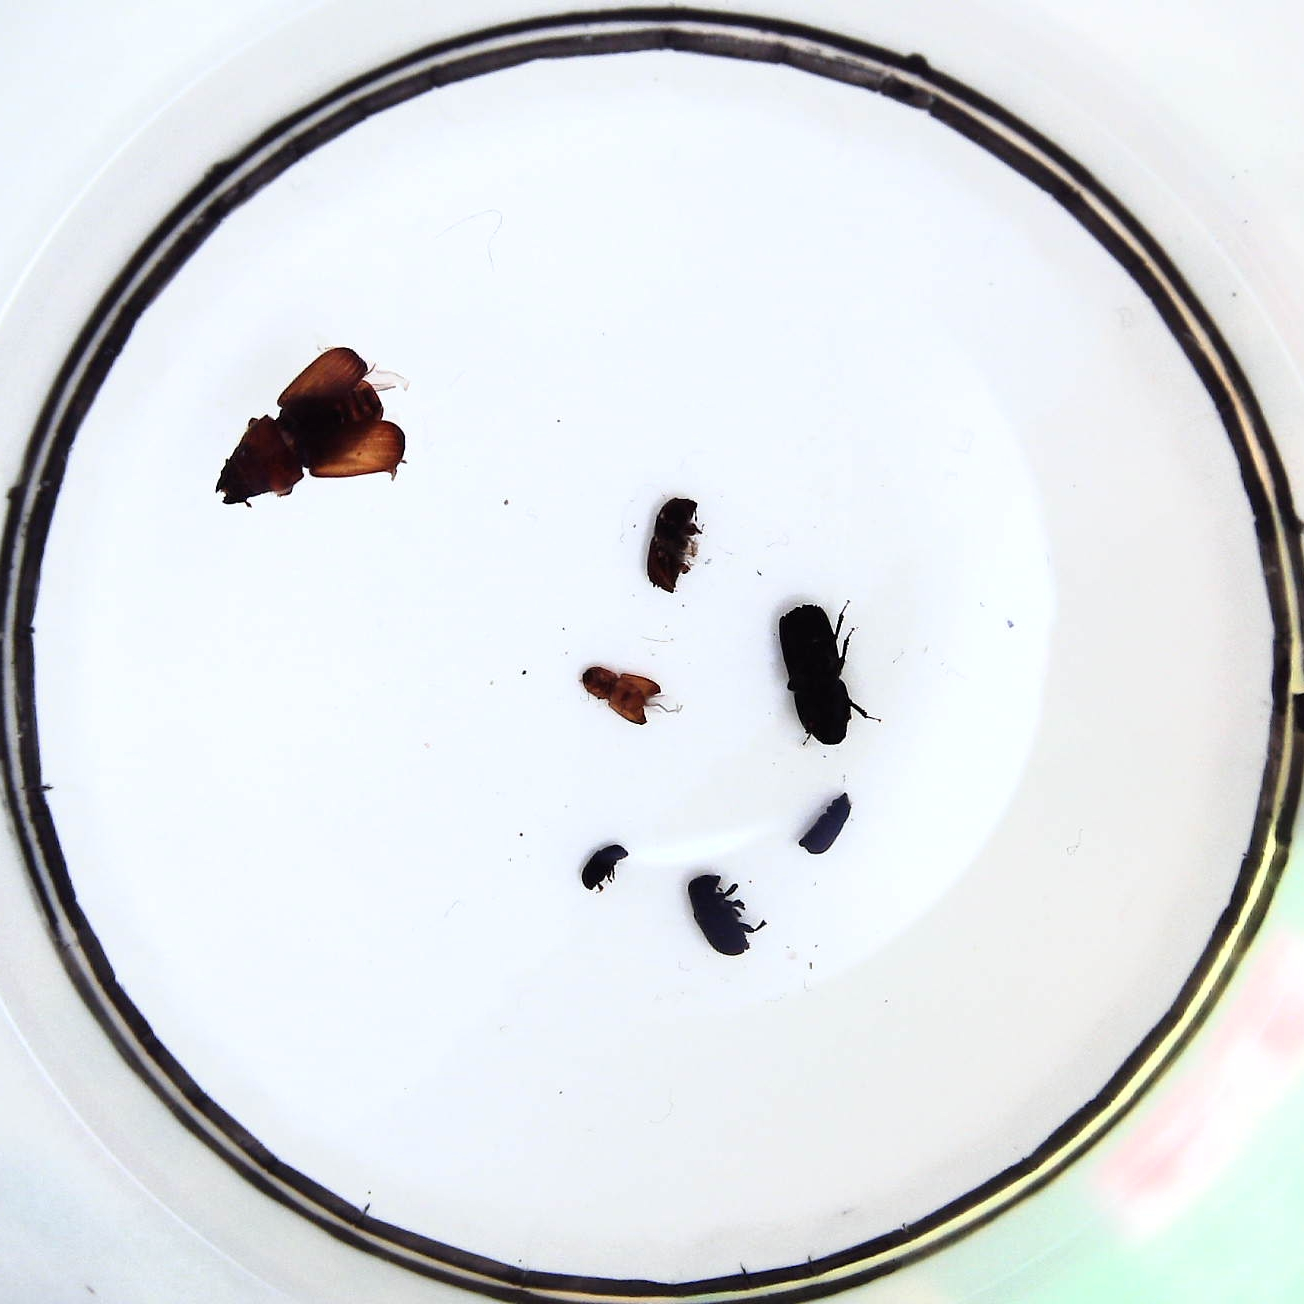Boerner: (779, 603, 855, 749)
Leconte: (219, 347, 406, 503)
Linnaeus: (645, 497, 699, 593)
acuminatus: (579, 668, 662, 725)
armandi: (685, 873, 755, 955)
coleoptera: (802, 794, 849, 854), (579, 843, 627, 888)
